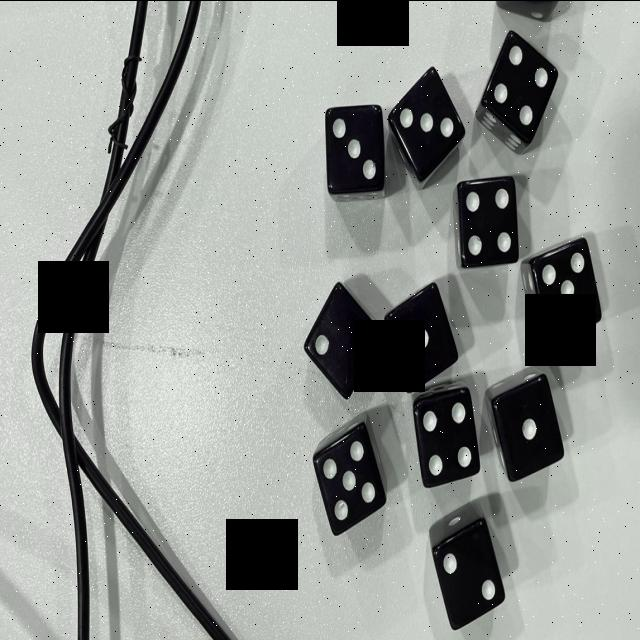DICE1: (388, 291, 452, 372), (500, 378, 556, 470)
DICE2: (304, 266, 390, 392), (444, 515, 502, 638)
DICE3: (386, 78, 462, 173), (321, 85, 377, 209)
DICE4: (476, 34, 556, 168), (456, 163, 518, 268), (424, 396, 476, 476)
DICE5: (312, 423, 383, 537), (534, 224, 600, 346)
